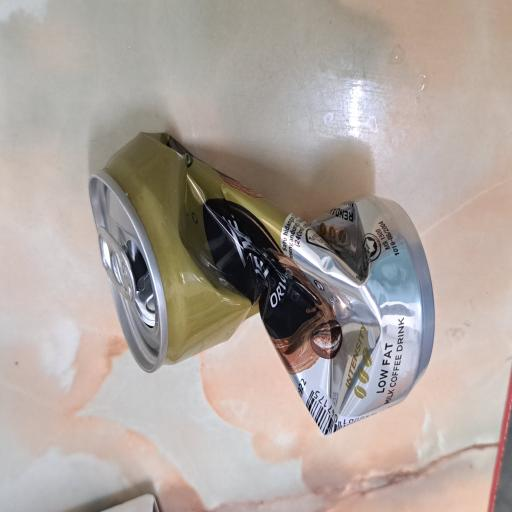can: (57, 119, 284, 512)
pop tab: (157, 130, 215, 182)
